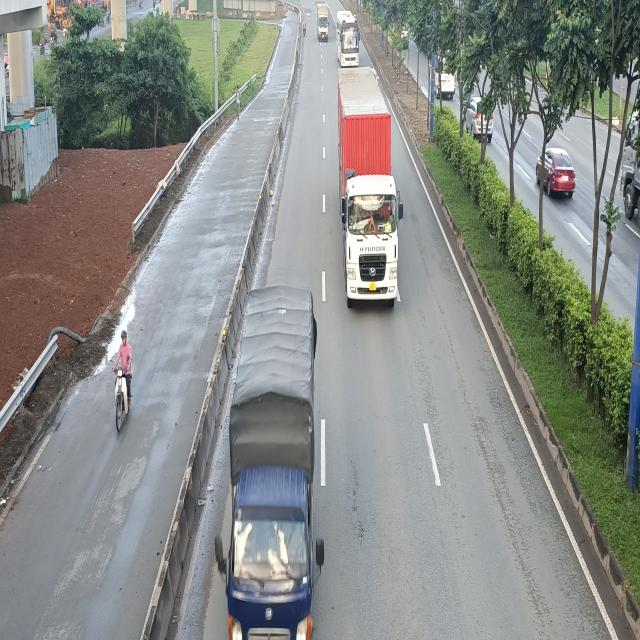coach: (339, 8, 362, 66)
container: (337, 64, 402, 308)
truck: (213, 280, 324, 640)
